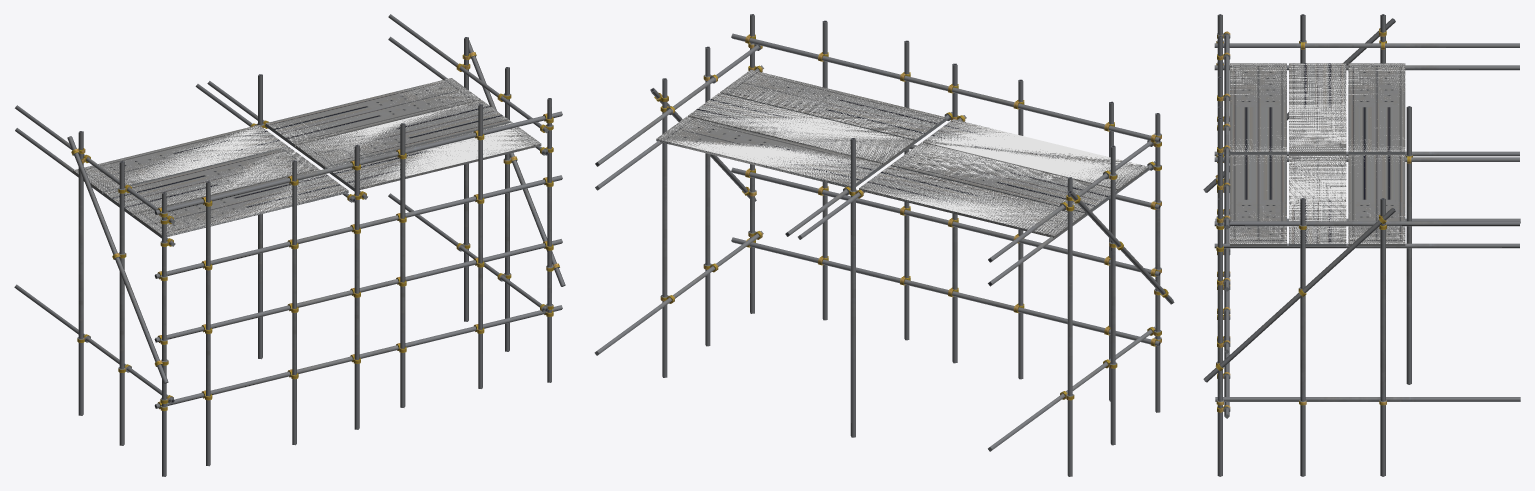
File: objects_un_t07scaffolding03.gltf
3 renders of one model, left to right at view 1: azimuth 30°, elevation 25°; view 2: azimuth 150°, elevation 25°; view 3: azimuth 270°, elevation 25°, orthographic. The views are drawn at different scales.
Parts seen in each view (by area): view 1: um_objects_un_t07scaffolding03_model_lod0Shape:objects_un_t0, um_objects_un_t07scaffolding03_model_lod0Shape:objects_un_be; view 2: um_objects_un_t07scaffolding03_model_lod0Shape:objects_un_t0, um_objects_un_t07scaffolding03_model_lod0Shape:objects_un_be; view 3: um_objects_un_t07scaffolding03_model_lod0Shape:objects_un_t0, um_objects_un_t07scaffolding03_model_lod0Shape:objects_un_be.
Part boxes in pixels (bbox=[...]): um_objects_un_t07scaffolding03_model_lod0Shape:objects_un_t0: bbox=[14, 14, 565, 476]; um_objects_un_t07scaffolding03_model_lod0Shape:objects_un_be: bbox=[74, 79, 540, 236]; um_objects_un_t07scaffolding03_model_lod0Shape:objects_un_t0: bbox=[594, 14, 1174, 476]; um_objects_un_t07scaffolding03_model_lod0Shape:objects_un_be: bbox=[657, 70, 1147, 237]; um_objects_un_t07scaffolding03_model_lod0Shape:objects_un_t0: bbox=[1203, 14, 1520, 476]; um_objects_un_t07scaffolding03_model_lod0Shape:objects_un_be: bbox=[1230, 63, 1405, 243].
Size of what is drawn, in the model's own units: 12.11 by 8.3 by 8.31.
Materials: 2 (1 with a texture image).
